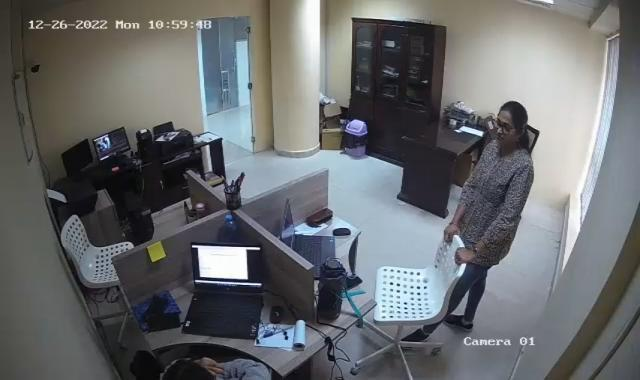no_apron: (448, 238, 478, 273), (436, 218, 466, 243), (196, 352, 232, 372)
no_gloves: (150, 352, 224, 380), (494, 100, 532, 152)
no_hairnet: (487, 114, 517, 148)
